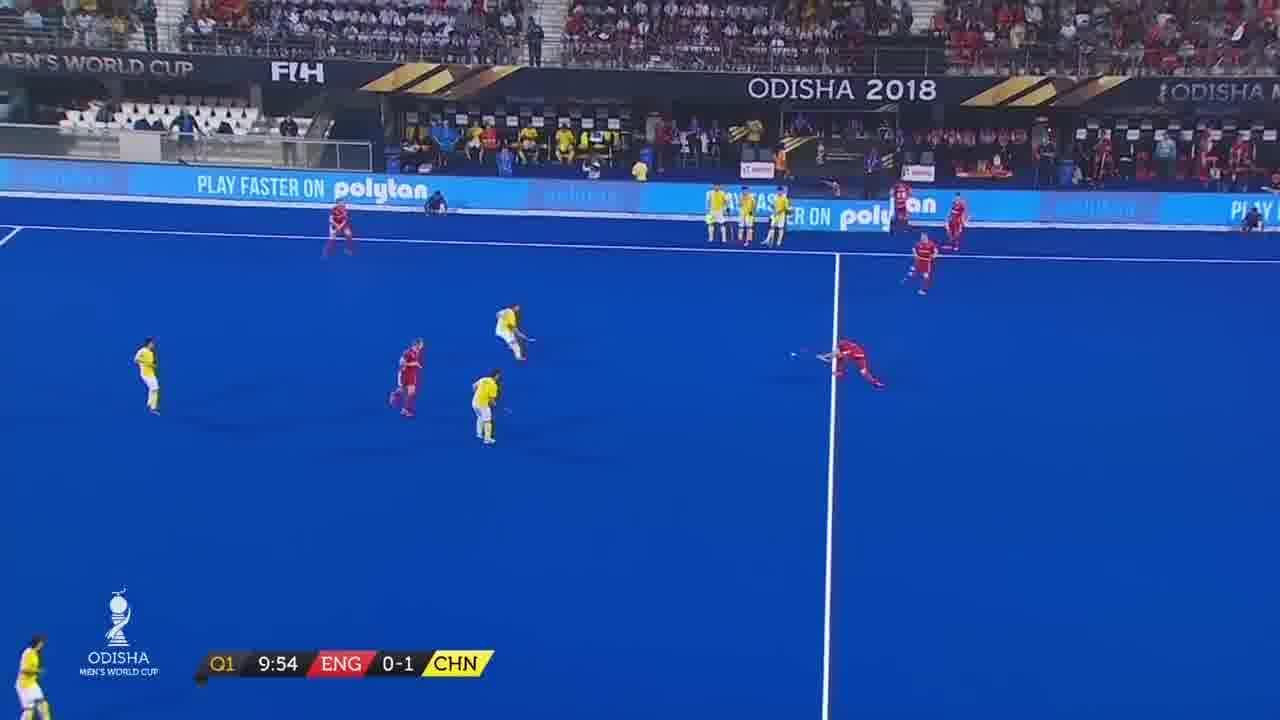ball: (783, 342, 804, 363)
